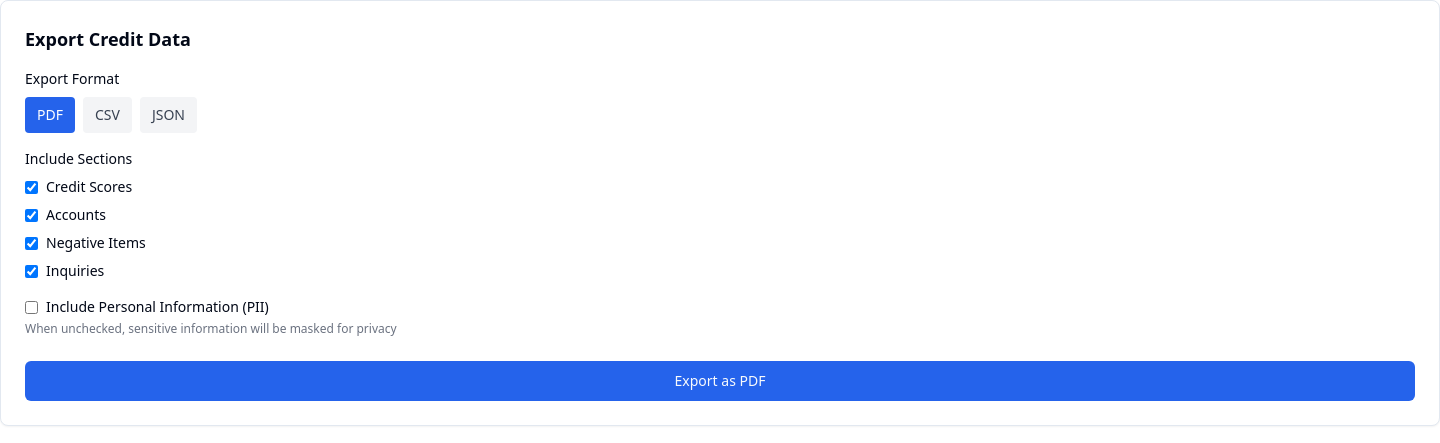
ExportControls › disables export button when no sections selected
The width and height of the screenshot is (1440, 443).
What coordinates should you click on to do the following:
click the checkbox labelled "Credit Scores"
I would click on:
 (32, 187)
Its box is [25,180,38,194].
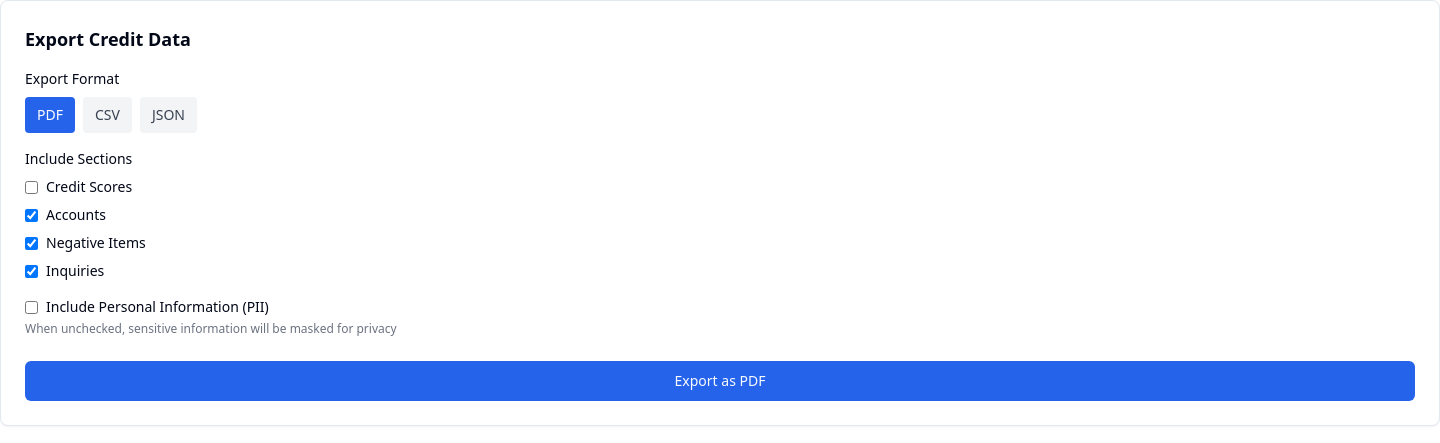
What coordinates should you click on to do the following:
click the checkbox labelled "Accounts"
I would click on:
 (32, 215)
Its box is [25,208,38,222].
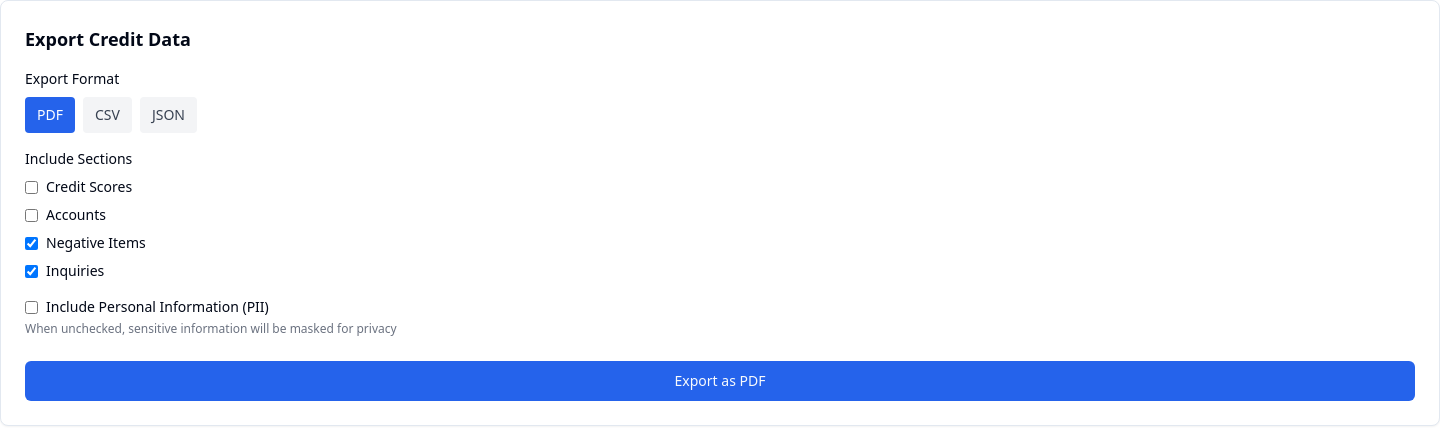
What coordinates should you click on to do the following:
click the checkbox labelled "Negative Items"
I would click on:
 (32, 243)
Its box is [25,236,38,250].
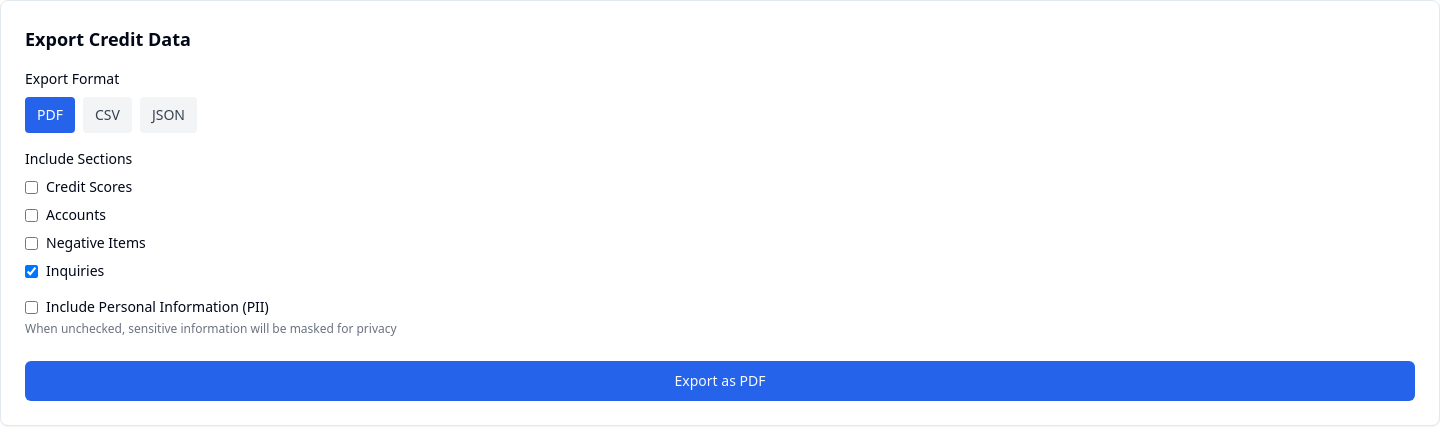
What coordinates should you click on to do the following:
click the checkbox labelled "Inquiries"
I would click on:
 (32, 271)
Its box is [25,264,38,278].
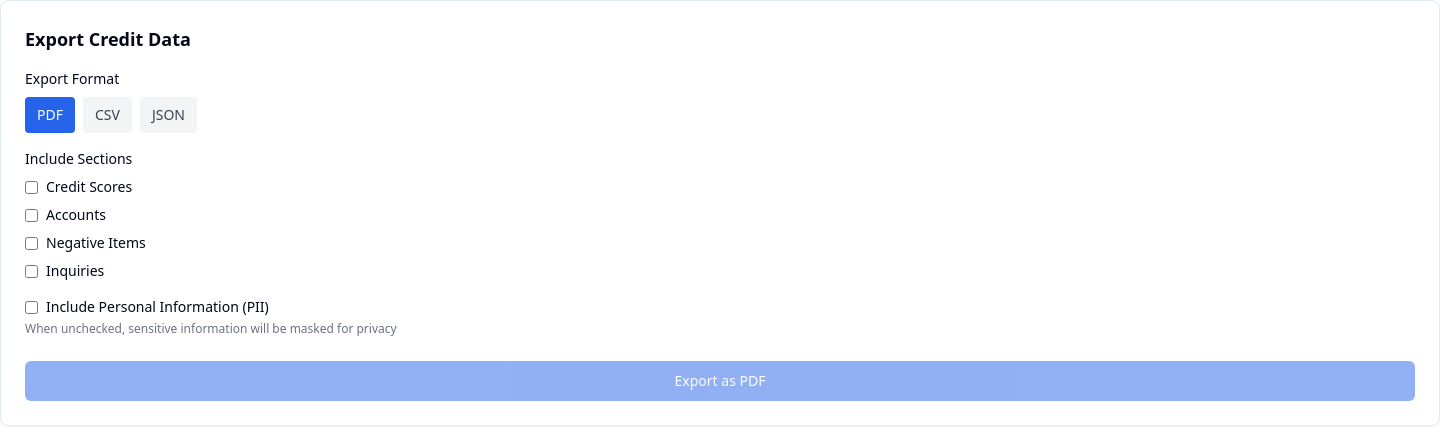
Check: the button "Export as PDF" is disabled, box [25,361,1415,401]
